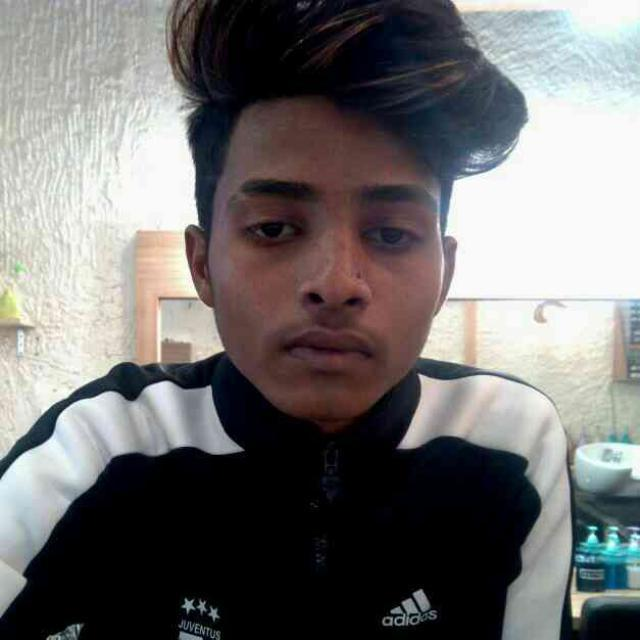puffy_eyes: (248, 229, 318, 262), (362, 239, 415, 268)
